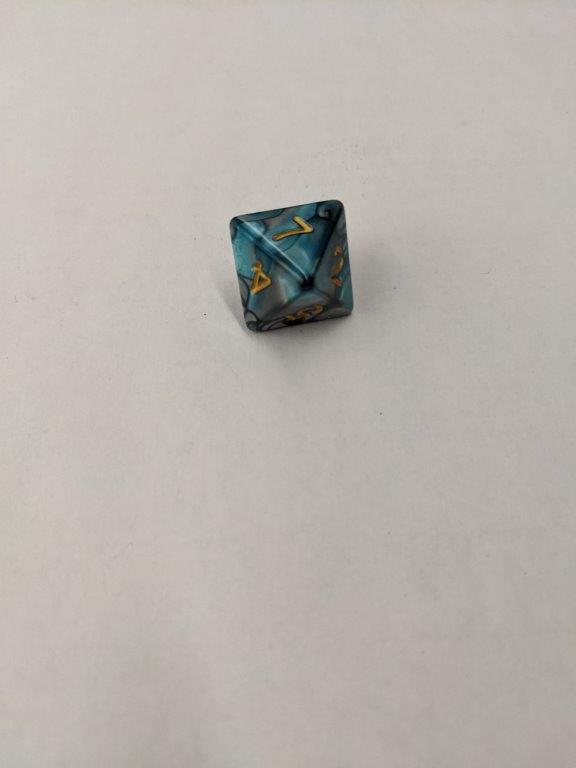d8-7: (229, 201, 357, 331)
